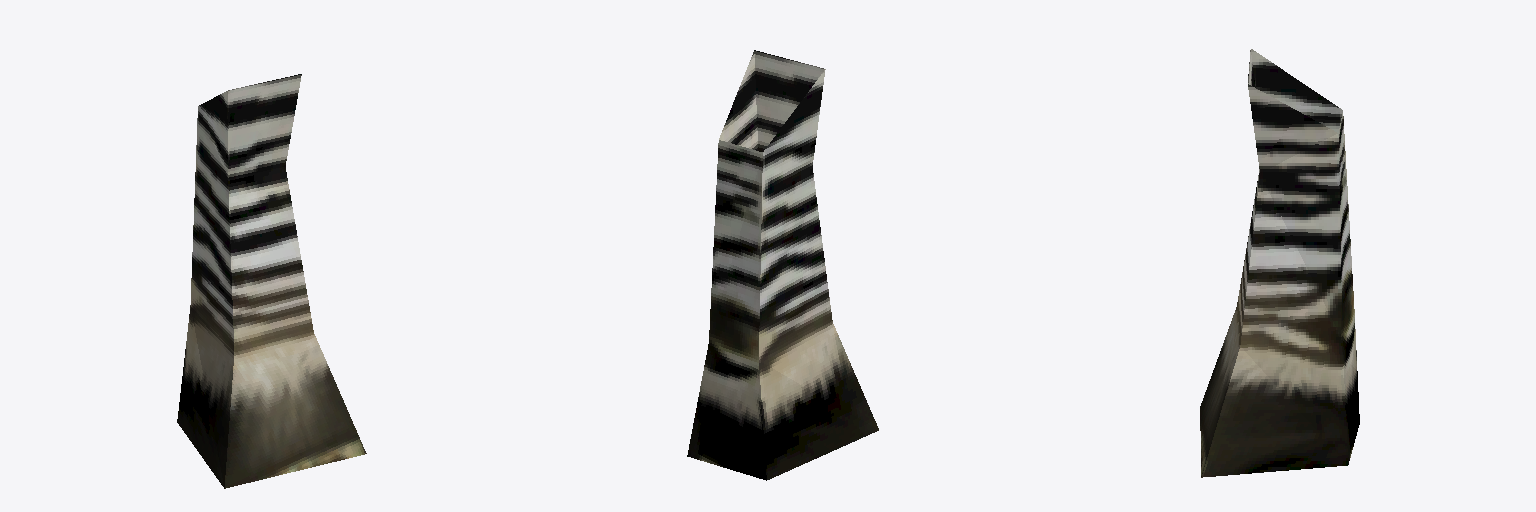
The picture shows the model from 3 angles: view 1: azimuth 30°, elevation 25°; view 2: azimuth 150°, elevation 25°; view 3: azimuth 270°, elevation 25°; orthographic projection.
Parts seen in each view (by area): view 1: ZFLD; view 2: ZFLD; view 3: ZFLD.
Part boxes in pixels (bbox=[...]): ZFLD: bbox=[177, 74, 366, 488]; ZFLD: bbox=[687, 50, 878, 480]; ZFLD: bbox=[1200, 49, 1359, 477].
Bounding box in the file's own units: 0.2357 × 0.5887 × 0.2283.
Materials: 1 (1 with a texture image).